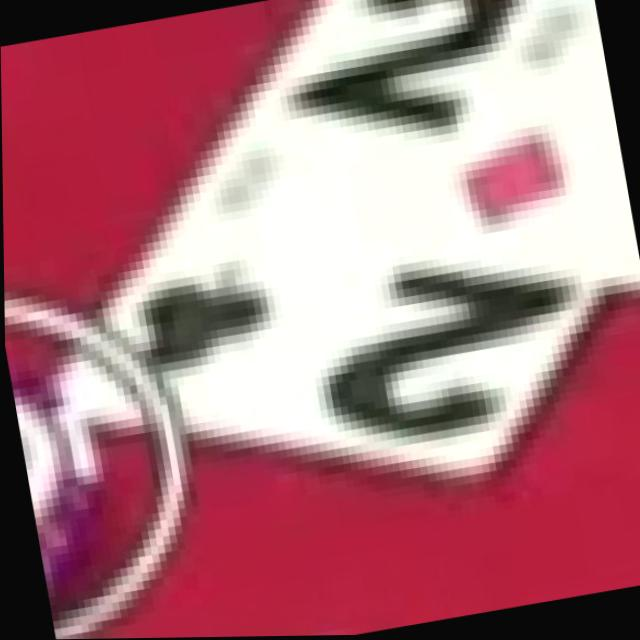Card-2: (58, 38, 605, 482)
